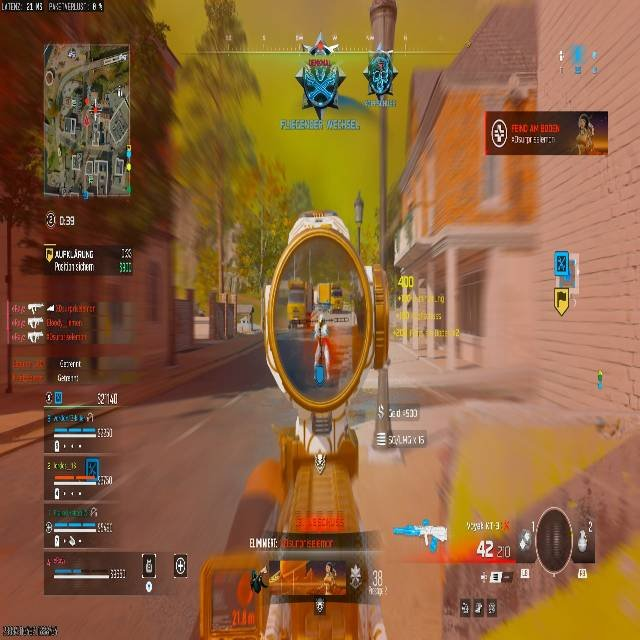head: (307, 42, 329, 57)
player: (294, 47, 345, 120), (363, 51, 397, 104), (312, 321, 330, 375)
